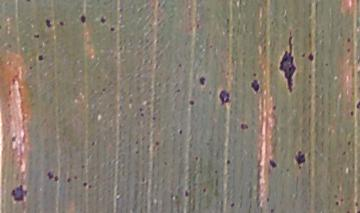tarspot: (278, 30, 297, 94), (9, 184, 28, 203), (293, 149, 306, 169), (218, 88, 232, 106), (250, 78, 261, 95), (268, 158, 278, 169), (79, 13, 88, 25), (239, 122, 250, 131), (198, 76, 207, 86), (307, 52, 315, 63), (99, 16, 108, 25), (45, 18, 53, 28), (46, 171, 54, 180), (183, 189, 191, 198), (8, 136, 18, 143), (37, 53, 45, 61), (229, 202, 238, 209), (58, 20, 66, 27), (109, 26, 117, 33), (201, 187, 209, 194), (345, 36, 352, 44), (188, 99, 195, 106), (334, 200, 341, 207), (53, 175, 59, 183), (178, 128, 184, 136), (34, 33, 41, 39), (66, 176, 72, 183), (90, 140, 96, 147), (226, 159, 232, 166), (175, 88, 182, 94), (196, 22, 201, 30), (134, 149, 140, 155), (270, 207, 276, 213), (346, 47, 352, 53), (341, 150, 347, 156), (177, 62, 183, 68), (79, 164, 86, 169), (356, 101, 360, 109), (28, 65, 33, 71), (74, 175, 79, 181), (138, 107, 144, 112), (155, 141, 161, 146), (134, 140, 140, 145), (194, 156, 200, 161), (266, 197, 271, 203), (253, 72, 258, 78), (301, 52, 306, 58), (272, 105, 277, 111), (350, 110, 355, 116), (347, 140, 352, 146), (101, 87, 107, 92), (88, 184, 93, 189), (140, 113, 145, 118), (152, 115, 157, 120), (308, 74, 313, 79), (83, 181, 87, 187), (355, 201, 359, 207), (325, 62, 330, 66)
